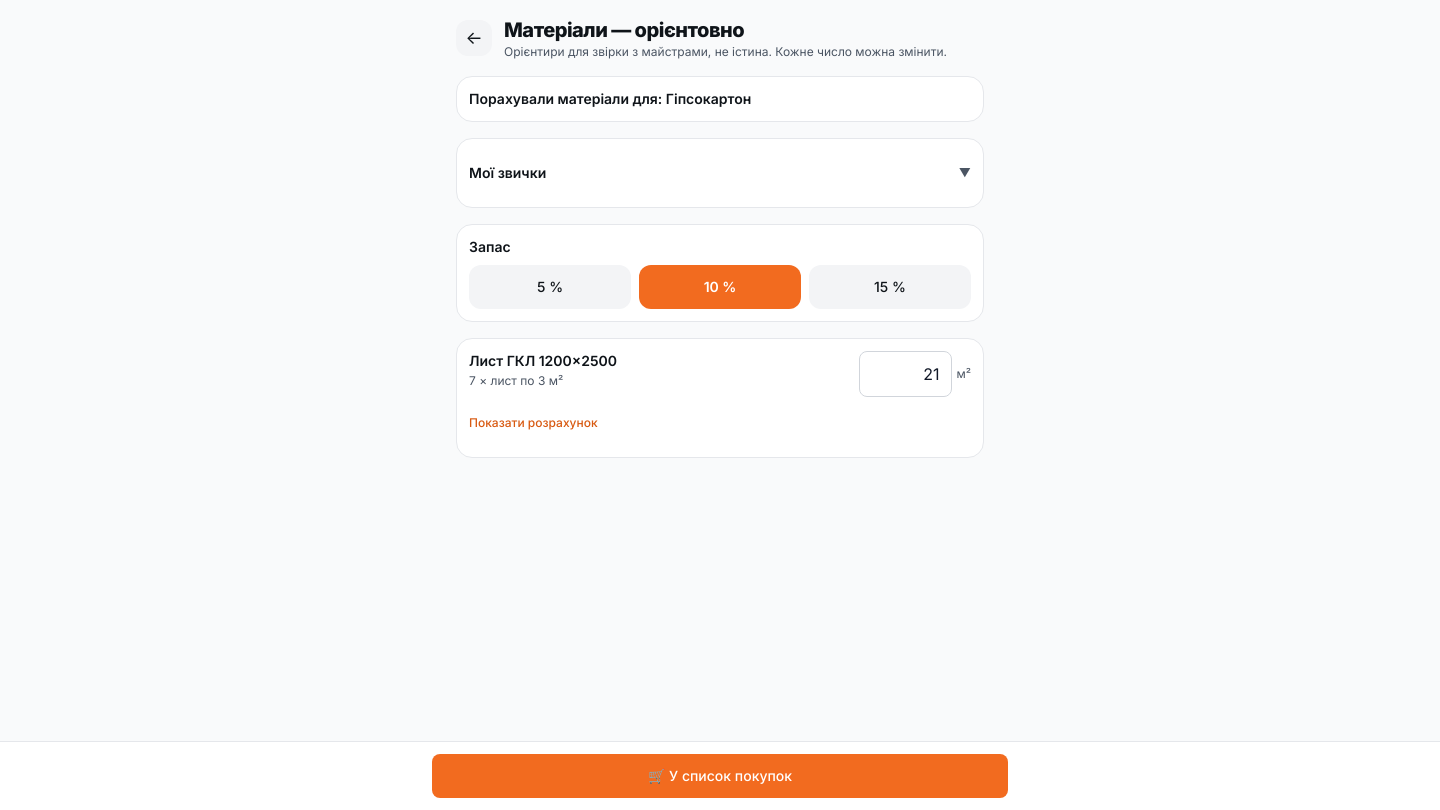
Scenario: MaterialCalculatorPage › re-counts the packages from the master’s own number, not the one we proposed
Expected: the text "7 × лист по 3 м²" is shown, [469, 373, 563, 388]
Replace the text in the field named "Кількість: Лист ГКЛ" with "24" at {"x": 906, "y": 374}, box [859, 351, 952, 397]
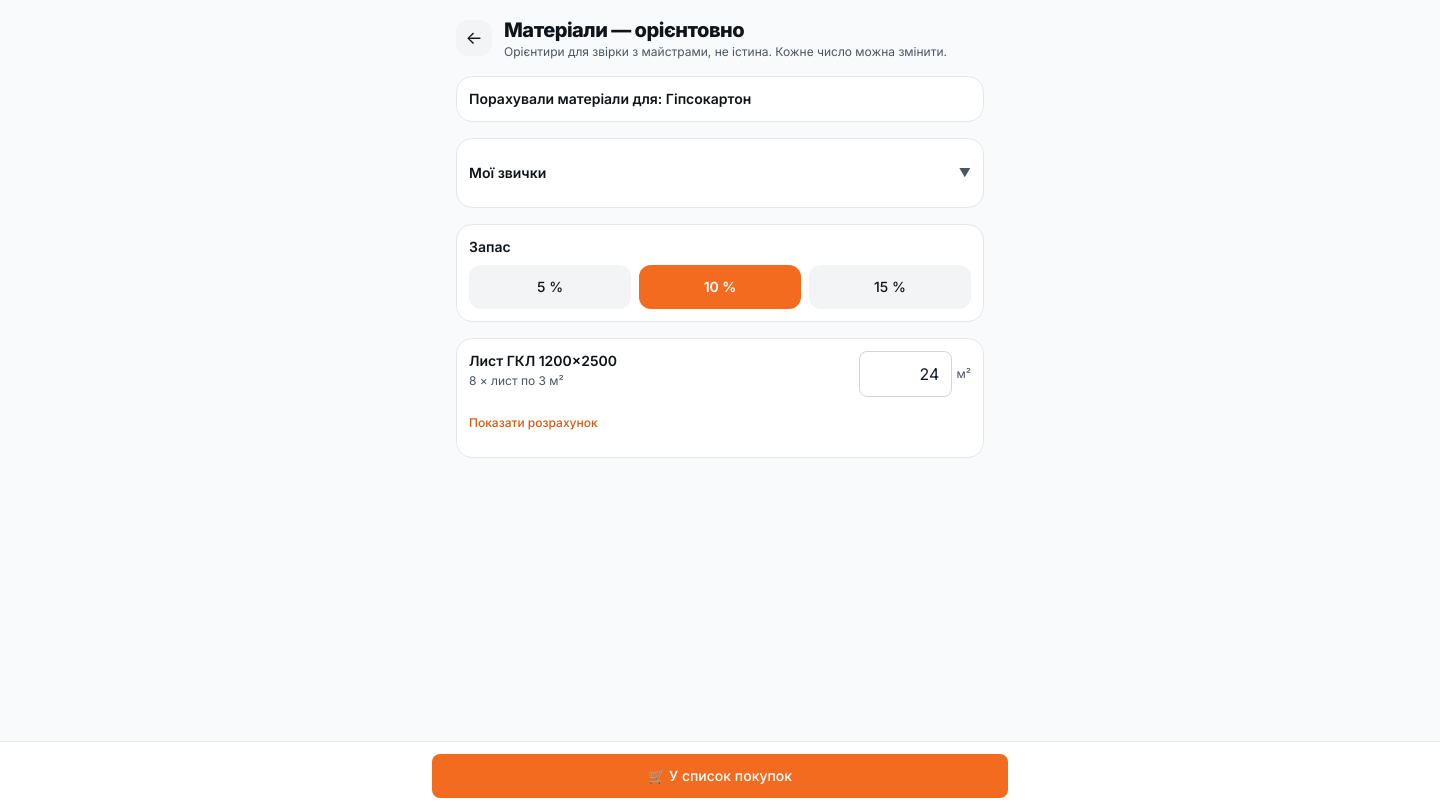
Now the text "8 × лист по 3 м²" is shown, box [469, 373, 564, 388]
Now the text "7 × лист" is gone
